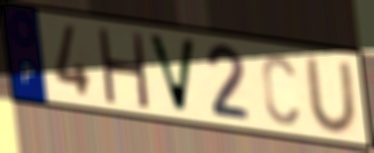2: (203, 40, 255, 127)
4: (53, 23, 95, 101)
C: (260, 51, 301, 128)
H: (95, 25, 151, 111)
U: (302, 56, 361, 137)
V: (144, 30, 198, 117)
